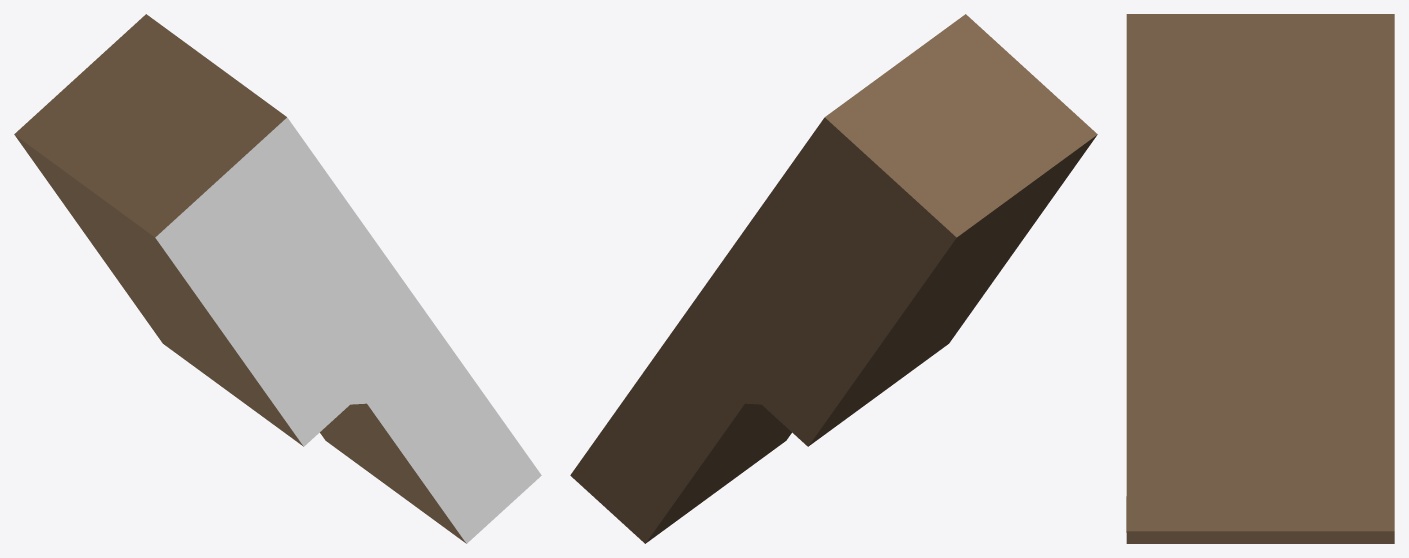
3 views of the same model, side by side, from view 1: azimuth 30°, elevation 25°; view 2: azimuth 150°, elevation 25°; view 3: azimuth 270°, elevation 25° (orthographic). The views are drawn at different scales.
Parts seen in each view (by area): view 1: City_1202429; view 2: City_1202429; view 3: City_1202429.
Boxes of the visible parts, box(x1,y1,x2,y2) form: City_1202429: box(14, 14, 541, 543); City_1202429: box(570, 14, 1097, 543); City_1202429: box(1126, 14, 1394, 543).
Bounding box in the file's own units: 1593 × 1853 × 1007.
